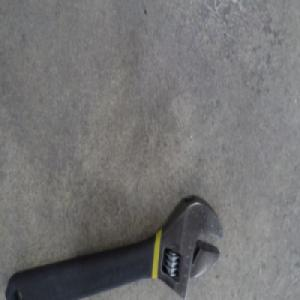AdjustableWrench: (6, 194, 225, 299)
